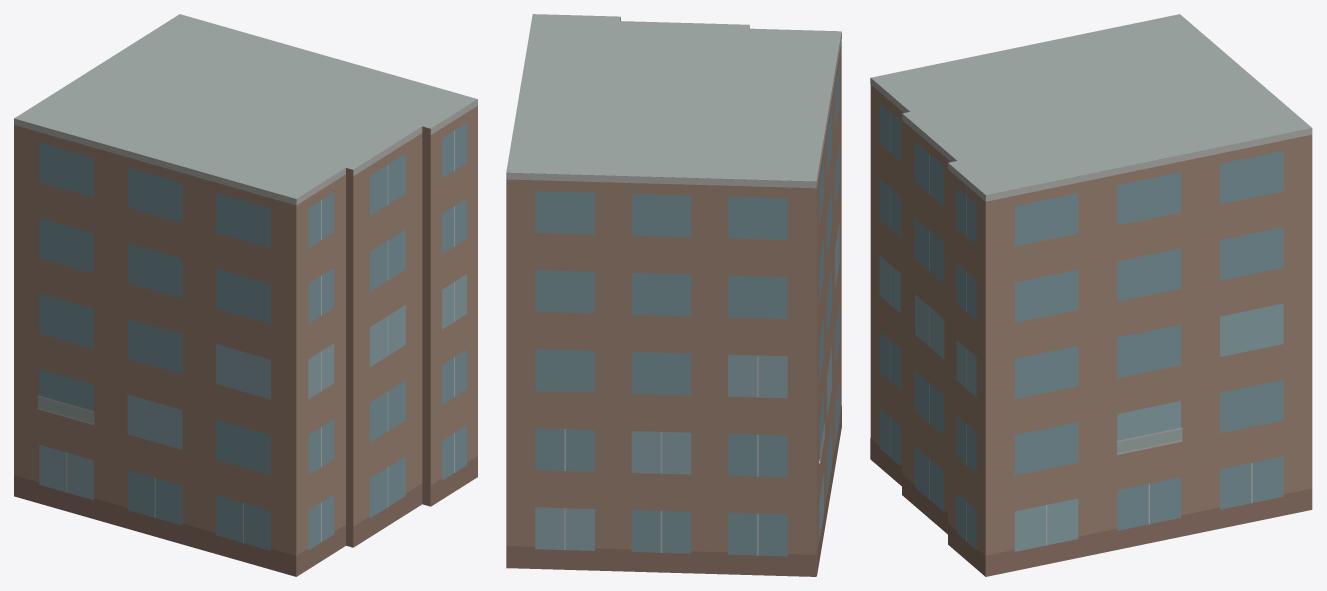
The model's file is survey-upis-32682189.glb.
3 renders of one model, left to right at view 1: azimuth 30°, elevation 25°; view 2: azimuth 150°, elevation 25°; view 3: azimuth 270°, elevation 25°, orthographic. The views are drawn at different scales.
Visible parts, largest first — view 1: survey-upis-32682189.tmp; view 2: survey-upis-32682189.tmp; view 3: survey-upis-32682189.tmp.
Boxes of the visible parts, x1,y1,x2,y2 form: survey-upis-32682189.tmp: (14,14,477,576); survey-upis-32682189.tmp: (506,14,841,576); survey-upis-32682189.tmp: (870,14,1312,576).
Bounding box in the file's own units: 14.46 × 14.2 × 14.91.
